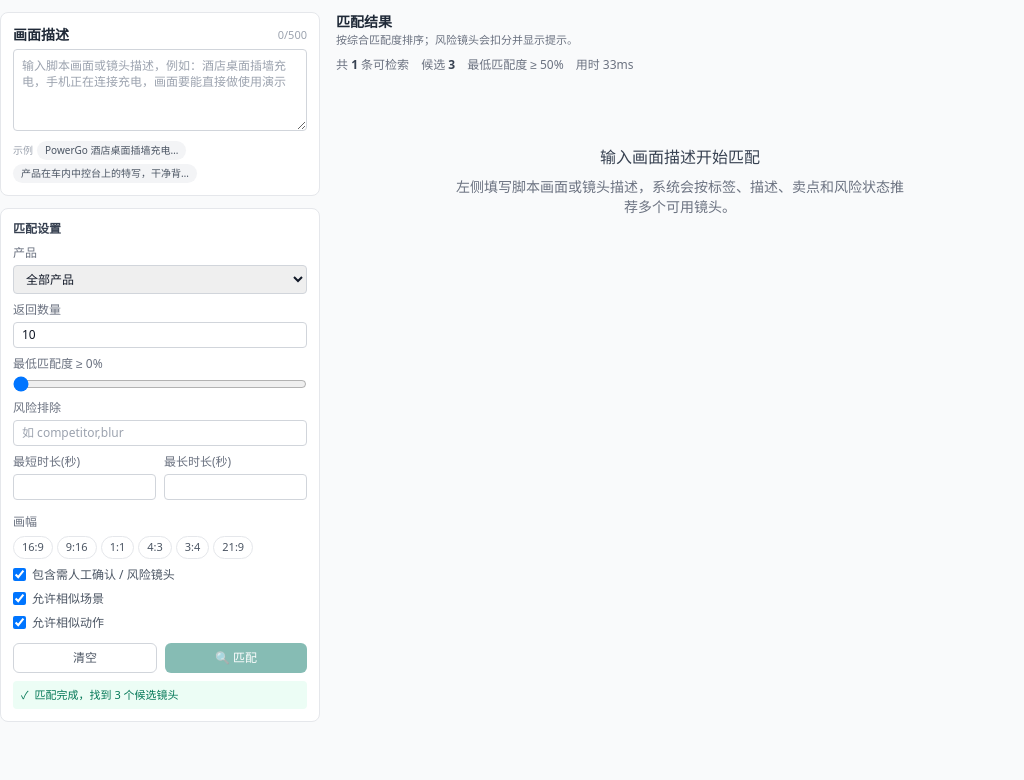
DescriptionMatchView › 结果行展示推荐等级与需人工确认，并回显 minimum_score 与已显示计数
In the text box with test id "desc-input": (160, 90) [13,49,307,131], type "桌面充电"
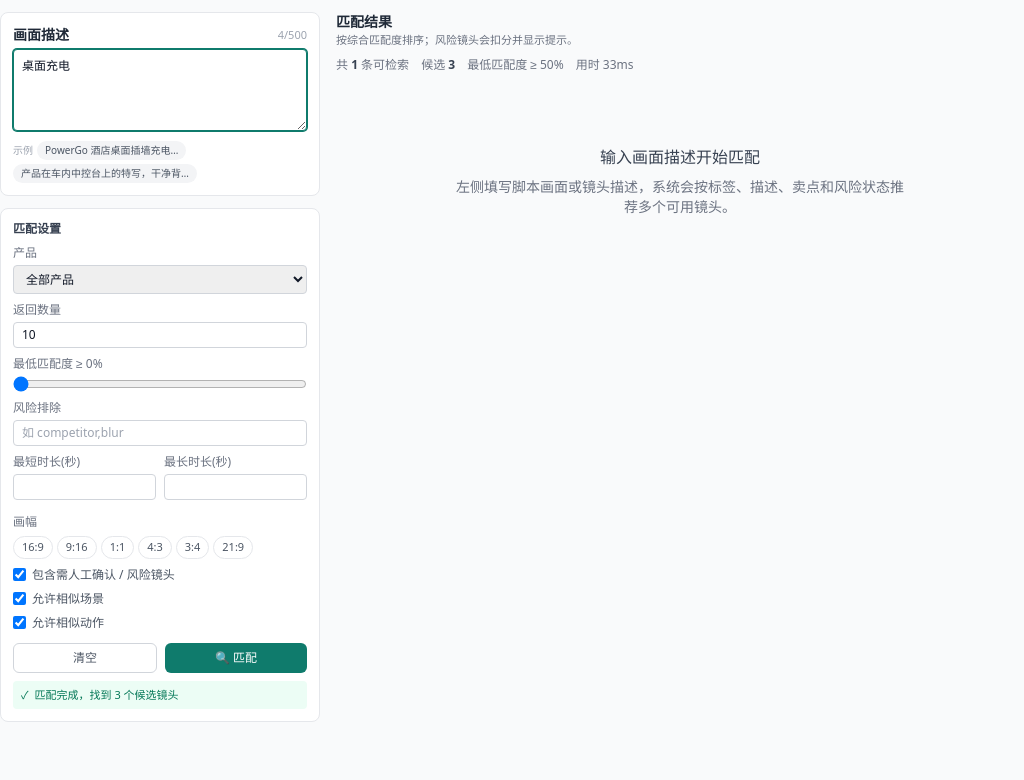
Click the button with test id "desc-match": (236, 658) [165,642,307,672]
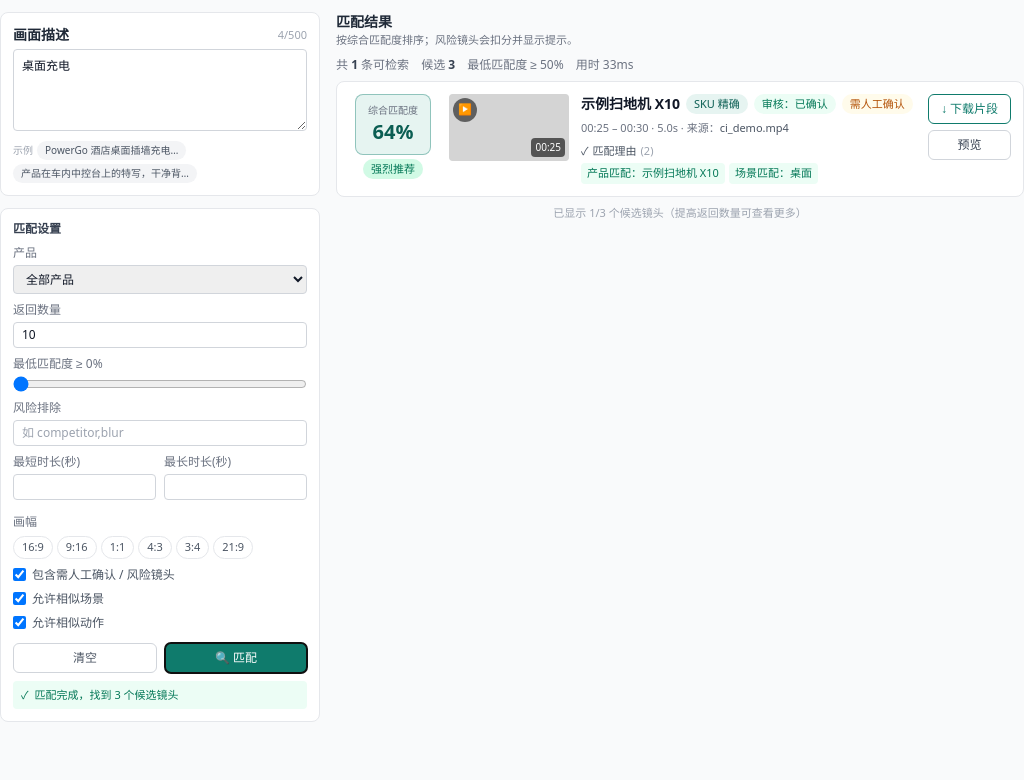
Result: the text "强烈推荐" is shown at [363,158,423,179]
Result: the text "需人工确认" is shown at [842,94,913,114]
Result: the text "已显示 1/3 个候选镜头（提高返回数量可查看更多）" is shown at [553,204,807,220]
